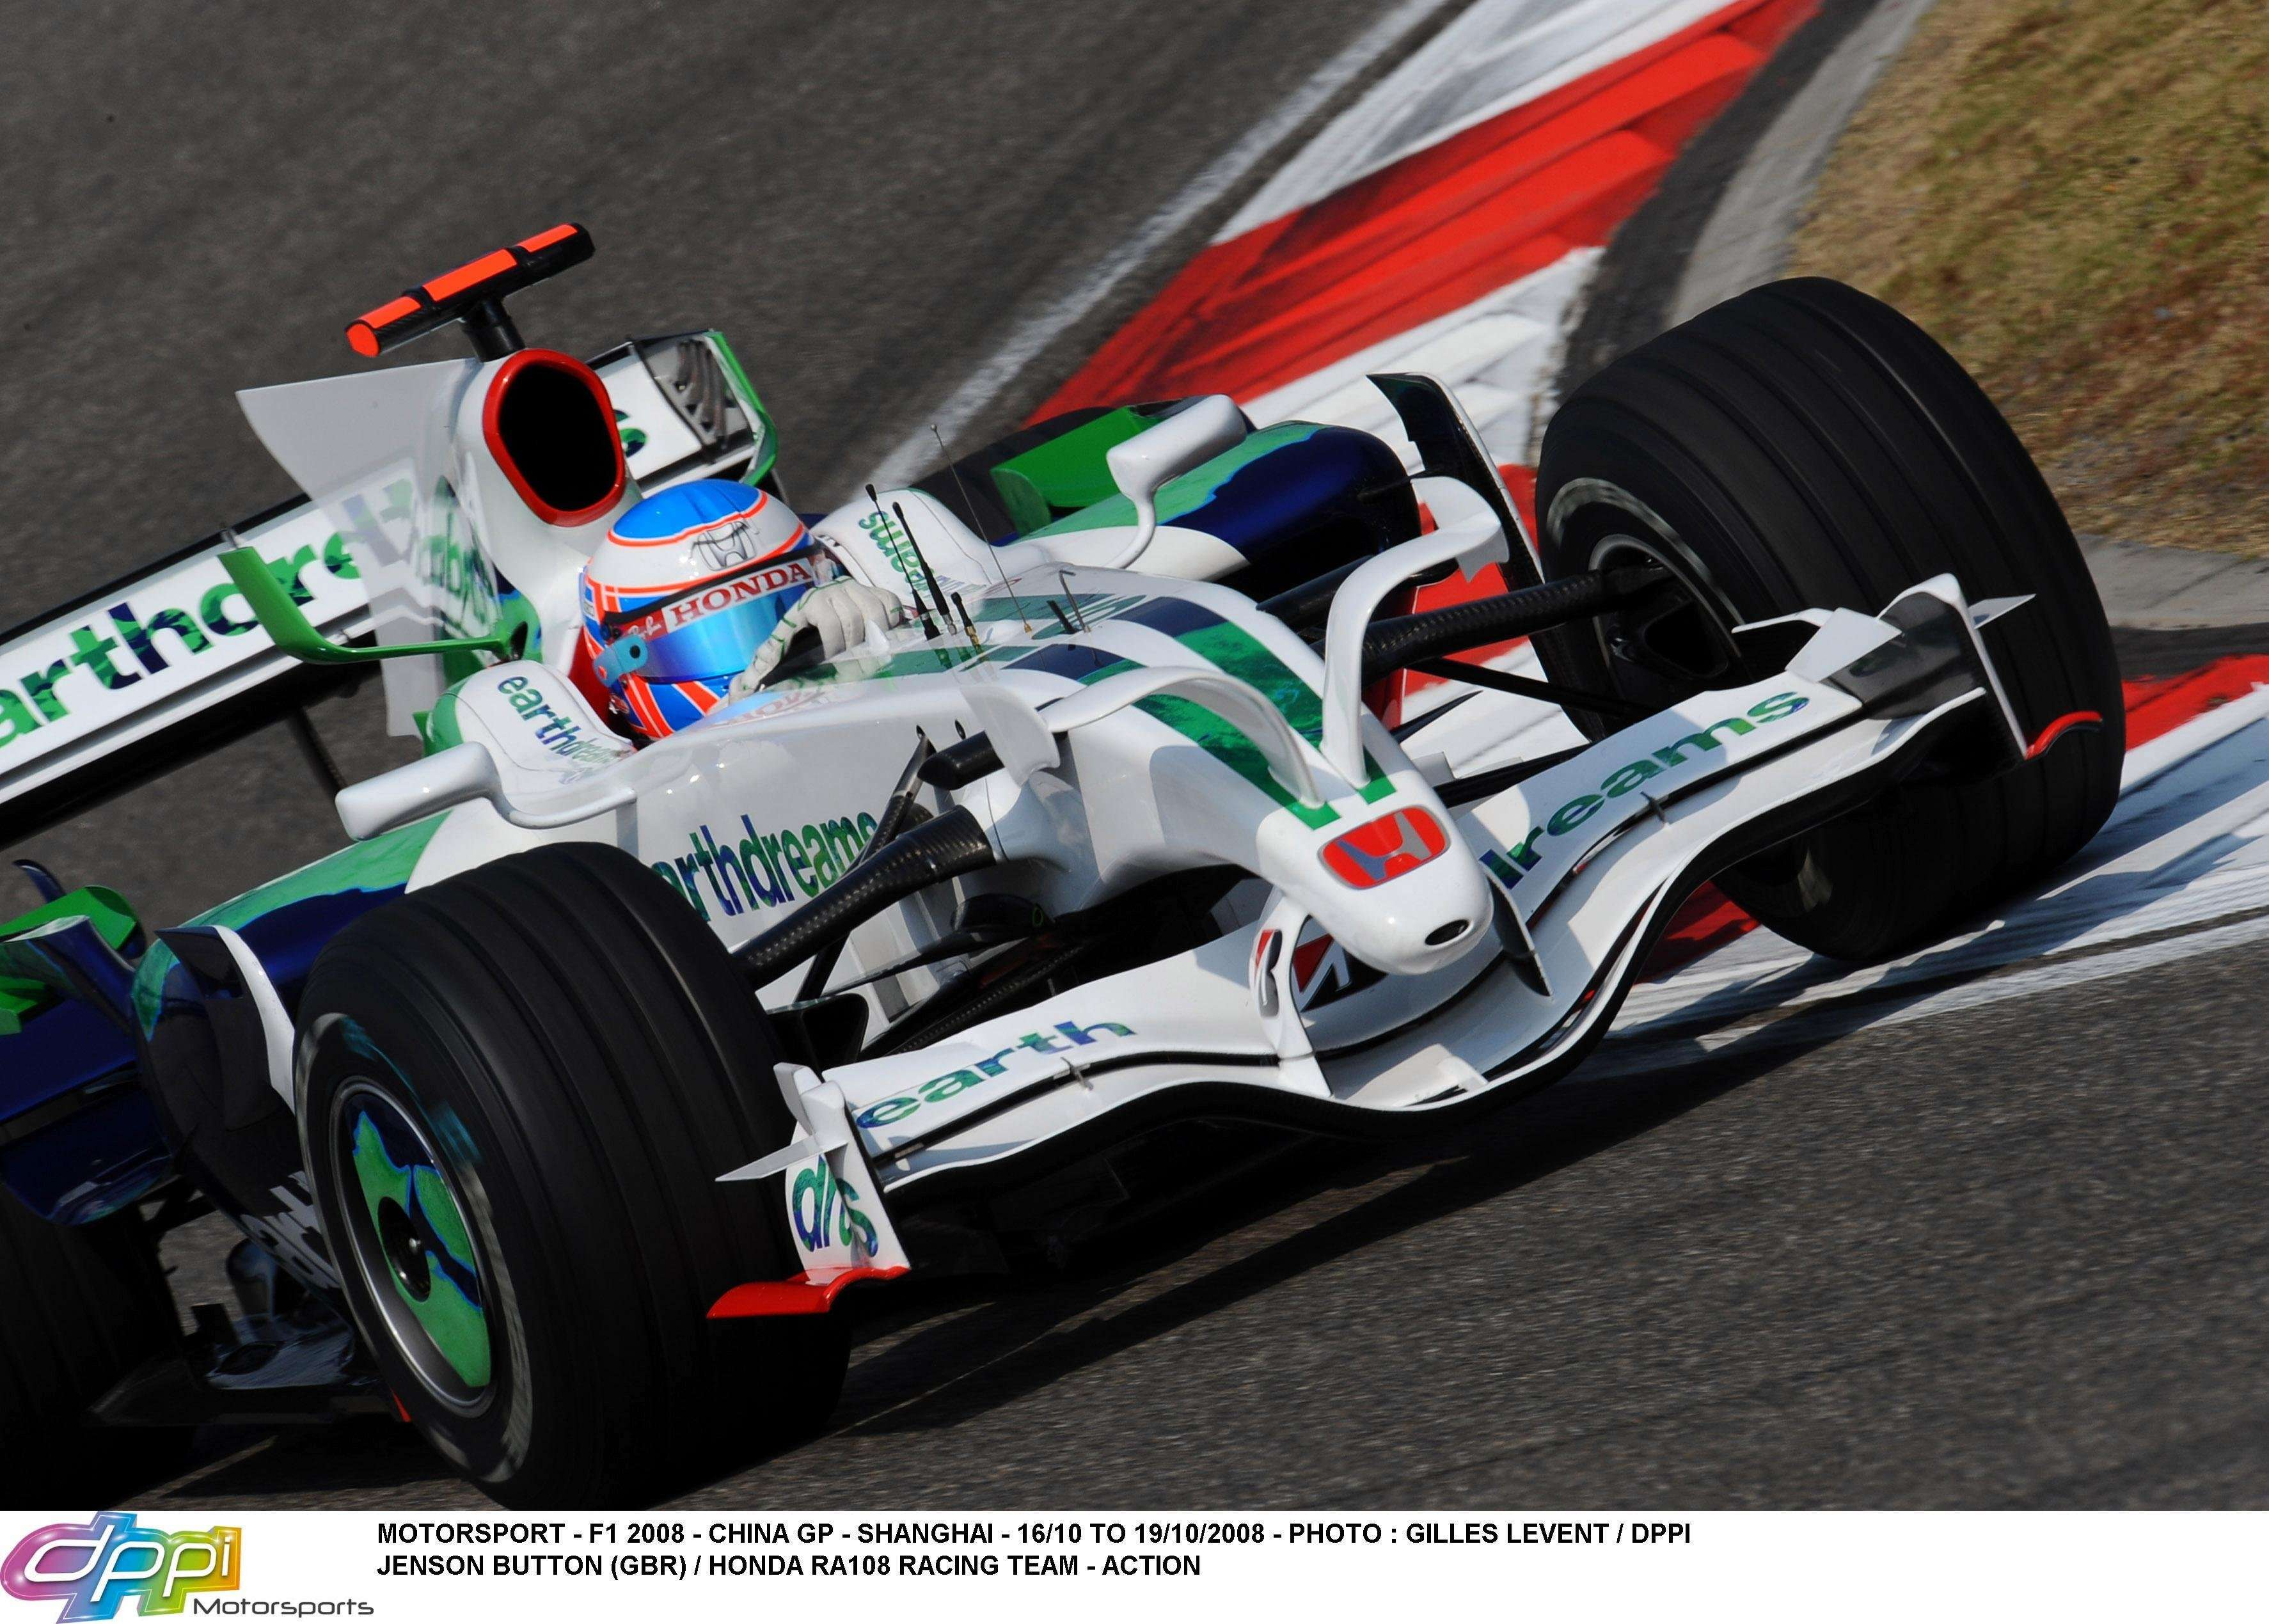f1_car: (4, 207, 2153, 1513)
helmet: (555, 459, 935, 763)
